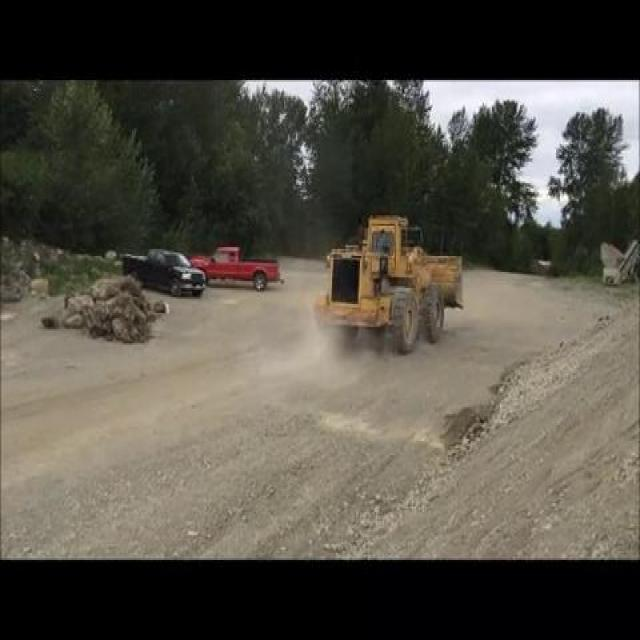Loader: (316, 210, 469, 348)
